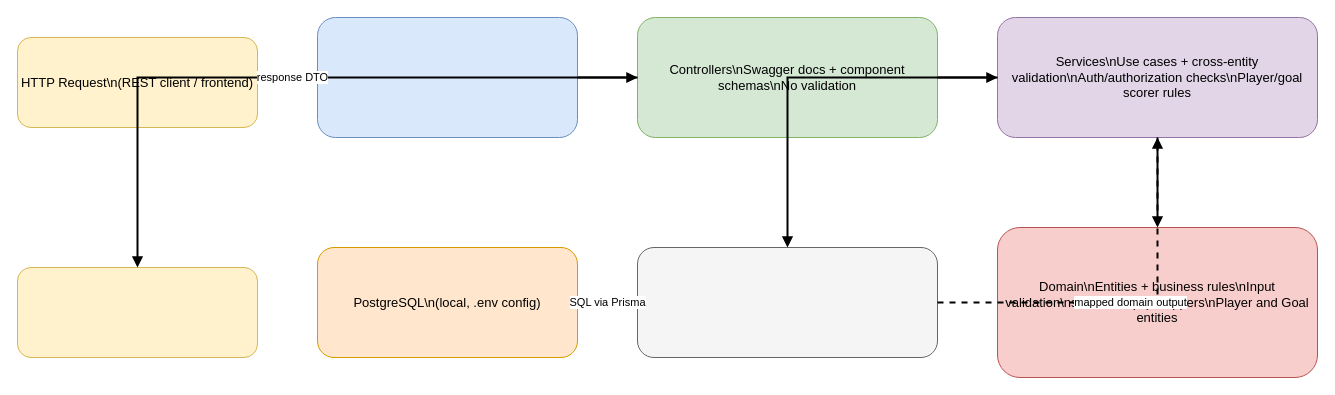
Some shapes in this 1335 by 395 pixel diagram are drawn without their labels. The centre of each missing label's shape, as x and y in pixels:
Data Access\nPrisma Client\nRepository-style modules: the point at 787,302
HTTP Response: the point at 137,312
Routes\nExpress Router\nDTO extraction: the point at 447,77
